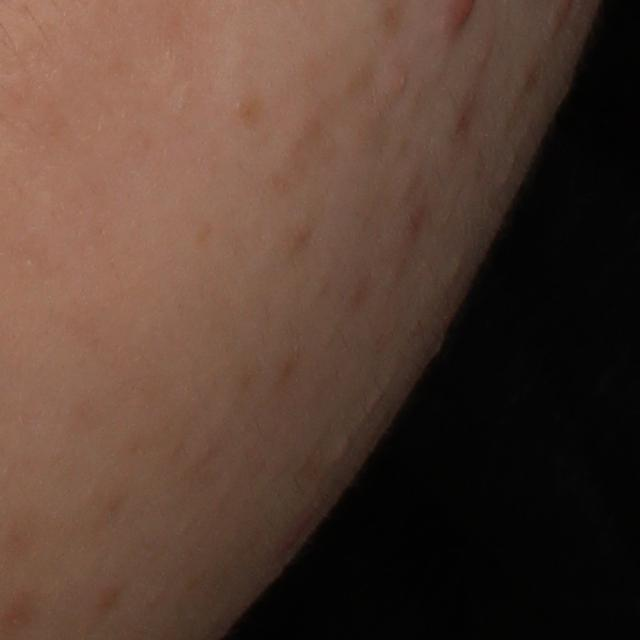papule: (96, 578, 123, 612)
